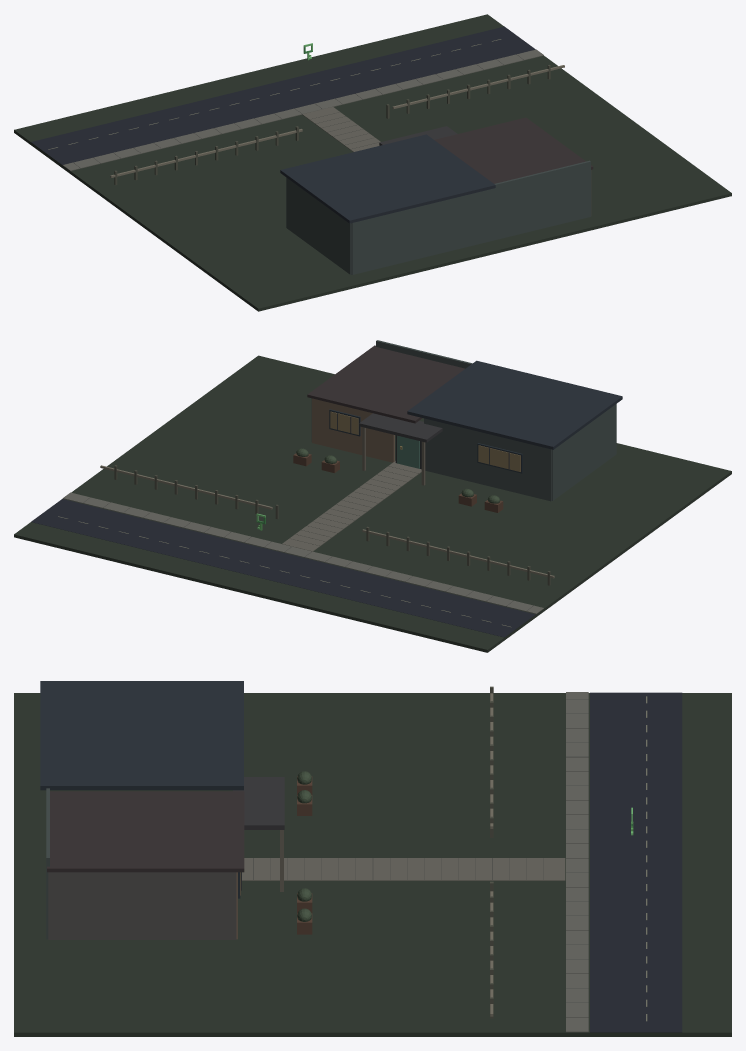
Rendered from exteriorCustom.obj.
The picture shows the model from 3 angles, top to bottom: view 1: azimuth 30°, elevation 25°; view 2: azimuth 150°, elevation 25°; view 3: azimuth 270°, elevation 25°; orthographic projection. The views are drawn at different scales.
Visible parts, largest first — view 1: exteriorCustom_original_9, exteriorCustom_original_decor_000, exteriorCustom_original_14, exteriorCustom_original_15, exteriorCustom_original_16, exteriorCustom_original_12; view 2: exteriorCustom_original_9, exteriorCustom_original_decor_000, exteriorCustom_original_15, exteriorCustom_original_16, exteriorCustom_original_10, exteriorCustom_original_12, exteriorCustom_original_11, exteriorCustom_original_17, exteriorCustom_original_decor_001, exteriorCustom_original_14; view 3: exteriorCustom_original_9, exteriorCustom_original_decor_000, exteriorCustom_original_15, exteriorCustom_original_16, exteriorCustom_original_13, exteriorCustom_original_17.
Boxes of the visible parts, bbox=[...] form: exteriorCustom_original_9: bbox=[14, 14, 731, 311]; exteriorCustom_original_decor_000: bbox=[31, 26, 564, 177]; exteriorCustom_original_14: bbox=[351, 160, 590, 274]; exteriorCustom_original_15: bbox=[280, 134, 495, 223]; exteriorCustom_original_16: bbox=[434, 117, 593, 183]; exteriorCustom_original_12: bbox=[286, 177, 351, 274]; exteriorCustom_original_9: bbox=[14, 355, 731, 652]; exteriorCustom_original_decor_000: bbox=[31, 409, 554, 637]; exteriorCustom_original_15: bbox=[407, 360, 622, 449]; exteriorCustom_original_16: bbox=[307, 345, 464, 423]; exteriorCustom_original_10: bbox=[424, 418, 551, 501]; exteriorCustom_original_12: bbox=[551, 404, 616, 500]; exteriorCustom_original_11: bbox=[312, 398, 394, 462]; exteriorCustom_original_17: bbox=[359, 413, 442, 442]; exteriorCustom_original_decor_001: bbox=[330, 411, 520, 471]; exteriorCustom_original_14: bbox=[376, 340, 472, 368]; exteriorCustom_original_9: bbox=[14, 693, 731, 1036]; exteriorCustom_original_decor_000: bbox=[238, 692, 682, 1032]; exteriorCustom_original_15: bbox=[40, 681, 243, 790]; exteriorCustom_original_16: bbox=[47, 791, 244, 872]; exteriorCustom_original_13: bbox=[48, 872, 236, 939]; exteriorCustom_original_17: bbox=[233, 777, 284, 829].
Bounding box in the file's own units: 47 × 5.86 × 42.
